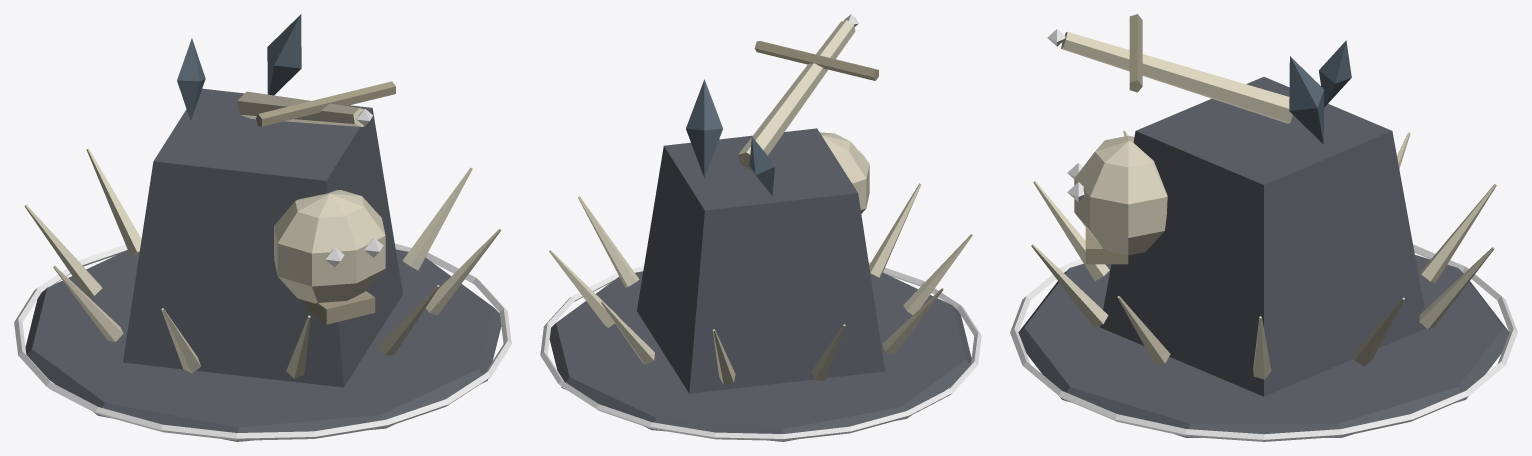
The model's file is wreck_fortress.fbx.
3 renders of one model, left to right at view 1: azimuth 30°, elevation 25°; view 2: azimuth 150°, elevation 25°; view 3: azimuth 270°, elevation 25°, orthographic. The views are drawn at different scales.
Visible parts, largest first — view 1: wreck_fortress; view 2: wreck_fortress; view 3: wreck_fortress.
Part boxes in pixels (x1=…): wreck_fortress: x1=14, y1=14, x2=511, y2=441; wreck_fortress: x1=540, y1=14, x2=981, y2=441; wreck_fortress: x1=1010, y1=14, x2=1517, y2=441.
Size of the model in its own units: 3.56 by 2.39 by 3.56.
Materials: 2 (1 with a texture image).
